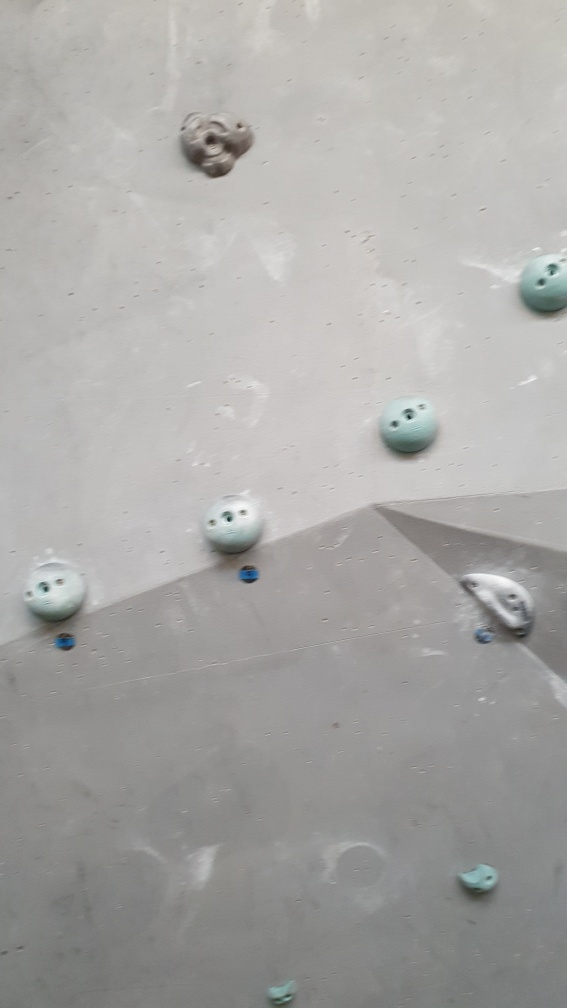Hand Start: (234, 560, 264, 588), (53, 631, 82, 654), (473, 625, 495, 648)
Jug: (172, 103, 262, 182)
Sloper: (20, 559, 90, 625), (204, 491, 271, 557), (380, 386, 440, 459), (517, 253, 567, 321)
